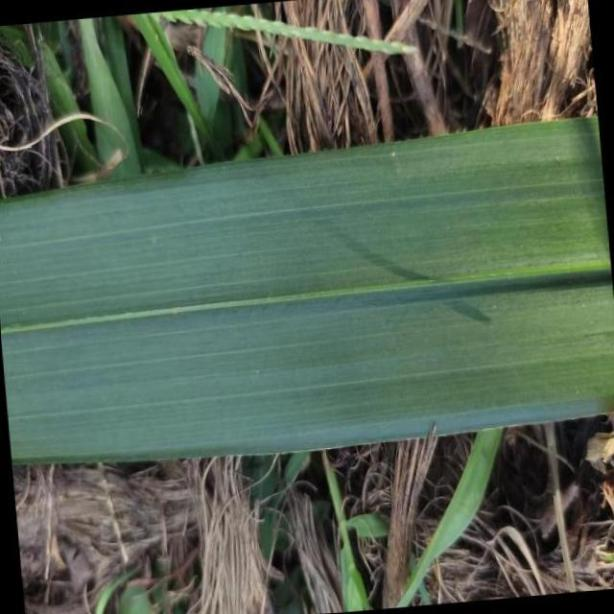Healthy: (0, 116, 614, 464)
